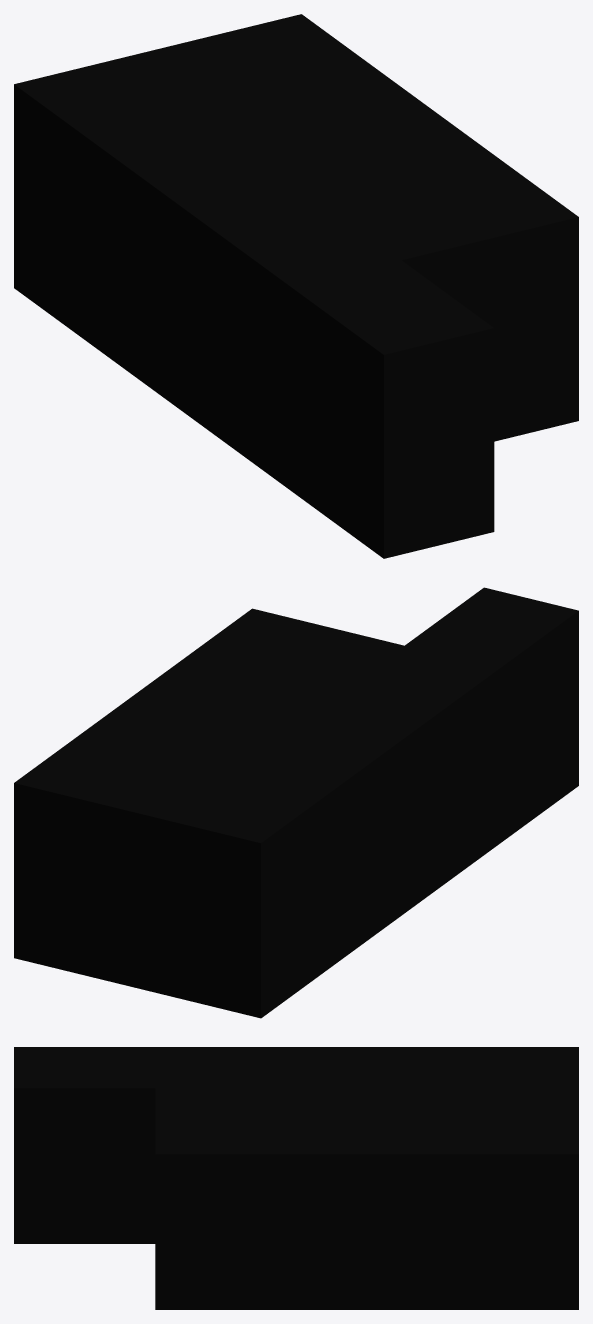
File: Room.fbx
3 renders of one model, top to bottom at view 1: azimuth 30°, elevation 25°; view 2: azimuth 150°, elevation 25°; view 3: azimuth 270°, elevation 25°, orthographic. The views are drawn at different scales.
Parts seen in each view (by area): view 1: Room; view 2: Room; view 3: Room.
Part boxes in pixels (bbox=[...]): Room: bbox=[14, 14, 578, 558]; Room: bbox=[14, 587, 578, 1018]; Room: bbox=[14, 1047, 578, 1309].
Size of the model in its own units: 165 by 112 by 368.
Materials: 1 (1 with a texture image).
